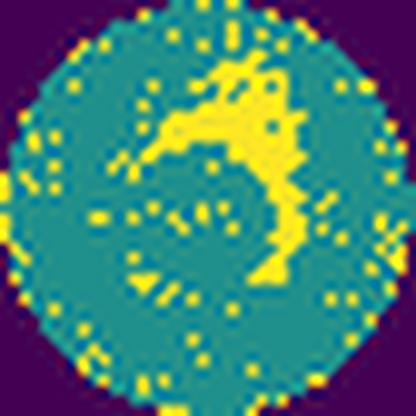Donut: (97, 39, 330, 313)
